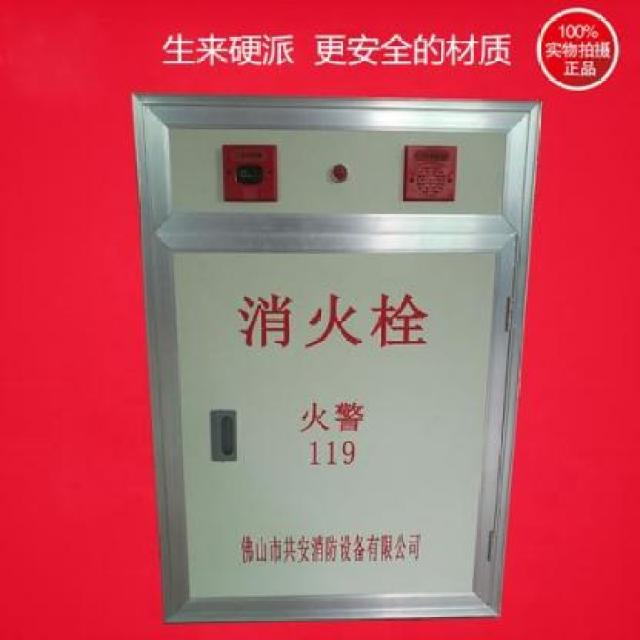firehydrant: (128, 86, 542, 633)
